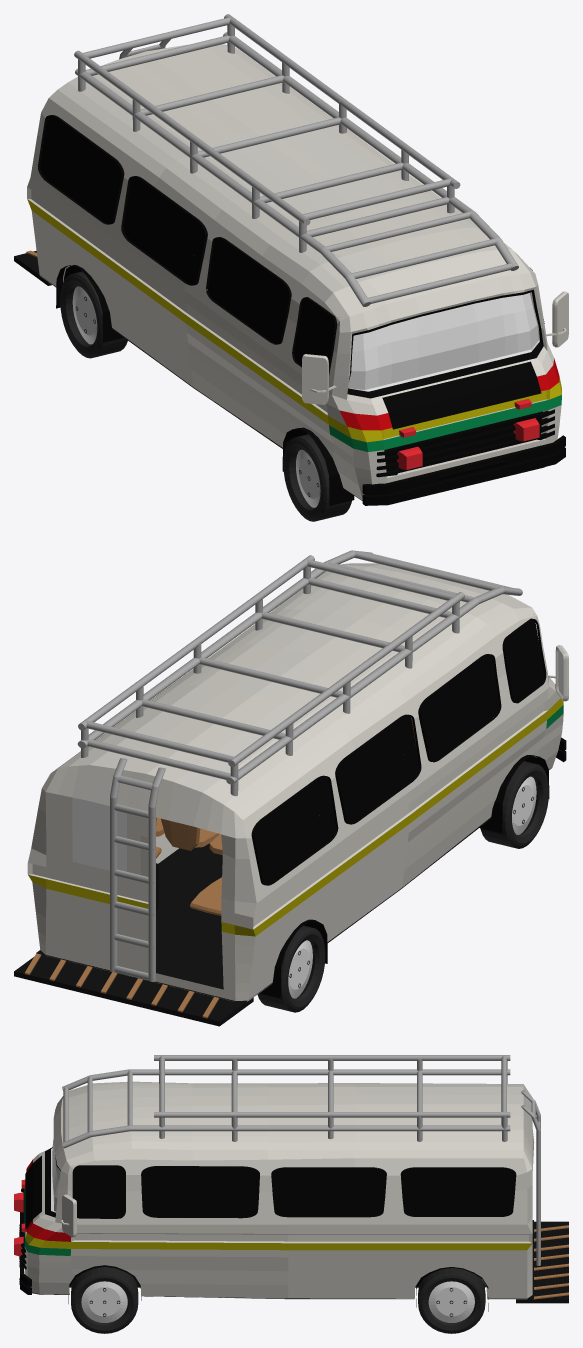
The model's file is ndiaga.glb.
The picture shows the model from 3 angles, top to bottom: view 1: azimuth 30°, elevation 25°; view 2: azimuth 150°, elevation 25°; view 3: azimuth 270°, elevation 25°; orthographic projection. The views are drawn at different scales.
Visible parts, largest first — view 1: Carosserie, Cylinder.023, Glass, parechock, Plane.009, Pneu, Pneux 2 _Material.005_0, Parebrises, Fares, garde boue 3 _Material.002_0, Garde boue 4, Pneux 2 _Material.006_0 (+1 smaller); view 2: Carosserie, Cylinder.023, Glass, Plane, Cube.069, Cylinder.057, Pneu, Plane.010, Pneux 2 _Material.005_0, object 15, Pneux 2 _Material.006_0, garde boue 3 _Material.002_0 (+2 smaller); view 3: Carosserie, Glass, Cylinder.023, Pneu 1, pneux 3, Cube.069, Cylinder.057, Plane.009, Parebrises, parechock, Plane, Fares.
Part boxes in pixels (left/top/right/bottom): Carosserie: left=27, top=44, right=561, bottom=500; Cylinder.023: left=74, top=14, right=518, bottom=306; Glass: left=40, top=115, right=334, bottom=365; parechock: left=362, top=409, right=565, bottom=505; Plane.009: left=382, top=361, right=541, bottom=429; Pneu: left=283, top=434, right=351, bottom=521; Pneux 2 _Material.005_0: left=60, top=271, right=127, bottom=358; Parebrises: left=302, top=291, right=568, bottom=404; Fares: left=397, top=398, right=539, bottom=469; garde boue 3 _Material.002_0: left=282, top=427, right=354, bottom=505; Garde boue 4: left=56, top=265, right=123, bottom=342; Pneux 2 _Material.006_0: left=72, top=286, right=97, bottom=344; Carosserie: left=27, top=563, right=563, bottom=1001; Cylinder.023: left=77, top=550, right=522, bottom=796; Glass: left=254, top=619, right=543, bottom=884; Plane: left=36, top=768, right=551, bottom=1003; Cube.069: left=14, top=954, right=253, bottom=1026; Cylinder.057: left=110, top=758, right=165, bottom=981; Pneu: left=480, top=761, right=548, bottom=848; Plane.010: left=70, top=786, right=132, bottom=871; Pneux 2 _Material.005_0: left=257, top=925, right=325, bottom=1012; object 15: left=156, top=717, right=415, bottom=915; Pneux 2 _Material.006_0: left=288, top=940, right=312, bottom=998; garde boue 3 _Material.002_0: left=479, top=755, right=549, bottom=833; Carosserie: left=24, top=1081, right=534, bottom=1299; Glass: left=72, top=1166, right=516, bottom=1218; Cylinder.023: left=62, top=1055, right=510, bottom=1148; Pneu 1: left=71, top=1267, right=138, bottom=1333; pneux 3: left=418, top=1268, right=485, bottom=1333; Cube.069: left=516, top=1221, right=568, bottom=1303; Cylinder.057: left=520, top=1090, right=540, bottom=1265; Plane.009: left=25, top=1155, right=41, bottom=1229; Parebrises: left=60, top=1194, right=76, bottom=1237; parechock: left=19, top=1188, right=31, bottom=1294; Plane: left=24, top=1220, right=533, bottom=1298; Fares: left=14, top=1179, right=26, bottom=1256.
Size of the model in its own units: 4.29 by 4.14 by 9.98.
